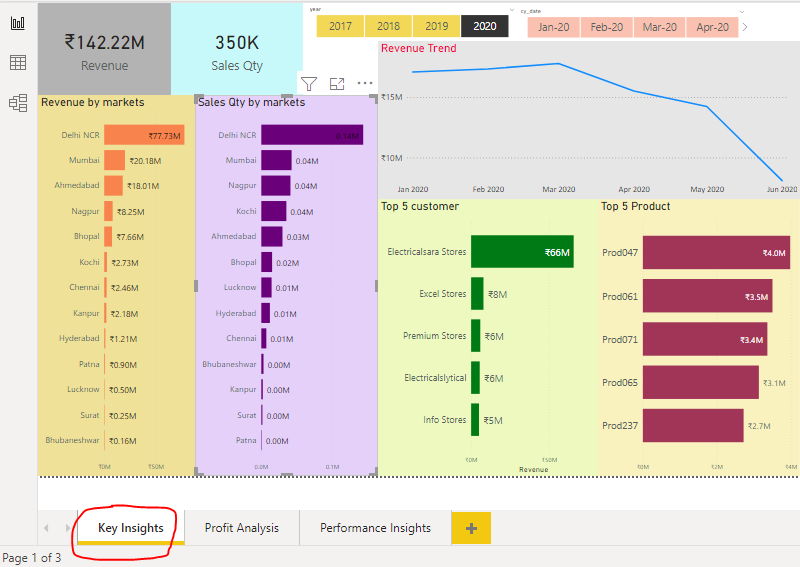

Layout of this report page (visuals, bound fields, positions):
{"tool":"powerbi","page":{"name":"Key Insights","canvas":[1450,900],"ordinal":0},"visuals":[{"type":"card","fields":{"Values":["Base Measure.Revenue"]},"box":[0,0,253.1,175.1],"z":0},{"type":"barChart","title":"Revenue by markets and customer_type","fields":{"Category":["sales markets.markets_name"],"Y":["Base Measure.Revenue"]},"box":[0,175.1,304.5,725],"z":1000},{"type":"card","fields":{"Values":["Base Measure.Sales Qty"]},"box":[253.1,0,251.2,175.1],"z":2000},{"type":"barChart","title":"Sales Qty by markets","fields":{"Category":["sales markets.markets_name"],"Y":["Base Measure.Sales Qty"]},"box":[298.8,175.1,348.2,725],"z":3000},{"type":"barChart","title":"Top 5 customer","fields":{"Y":["Base Measure.Revenue"],"Category":["sales customers.custmer_name"]},"box":[647,373,435.8,527.1],"z":4000},{"type":"barChart","title":"Top 5 Product","fields":{"Y":["Base Measure.Revenue"],"Category":["sales products.product_code"]},"box":[1065.6,373,384.4,527.1],"z":5000},{"type":"slicer","fields":{"Values":["sales date.year"]},"box":[504.3,0,414.8,72.3],"z":6000},{"type":"slicer","fields":{"Values":["sales date.cy_date"]},"box":[905.8,3.8,451,68.5],"z":7000},{"type":"lineChart","title":"Revenue Trend","fields":{"Y":["Base Measure.Revenue"],"Category":["sales date.cy_date"]},"box":[647,72.3,803,300.7],"z":8000}]}

Visuals, with their boxes on the page's 1450x900 design canvas (x1, y1, x2, y2). These are canvas units, not pixel positions in the 800x567 screenshot, which may show the page scaled, cropped or inside an application window:
card - Base Measure.Revenue: [0, 0, 253, 175]
"Revenue by markets and customer_type" barChart: [0, 175, 304, 900]
card - Base Measure.Sales Qty: [253, 0, 504, 175]
"Sales Qty by markets" barChart: [299, 175, 647, 900]
"Top 5 customer" barChart: [647, 373, 1083, 900]
"Top 5 Product" barChart: [1066, 373, 1450, 900]
slicer - sales date.year: [504, 0, 919, 72]
slicer - sales date.cy_date: [906, 4, 1357, 72]
"Revenue Trend" lineChart: [647, 72, 1450, 373]
